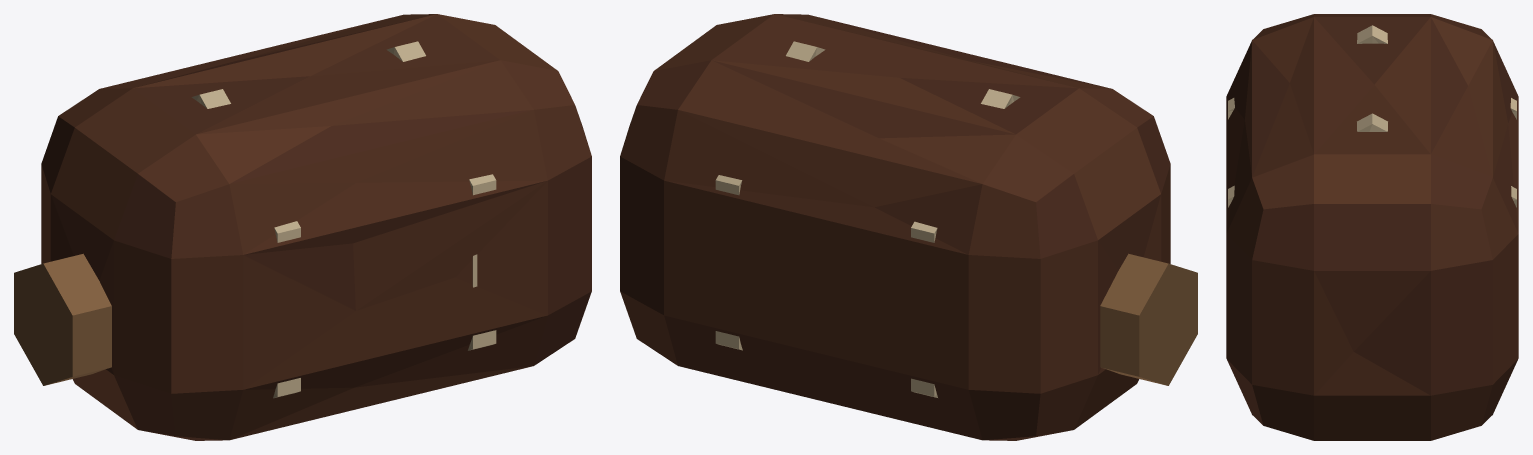
Rendered from meat_cooked_kopchenoe_idle.glb.
The picture shows the model from 3 angles, left to right: view 1: azimuth 30°, elevation 25°; view 2: azimuth 150°, elevation 25°; view 3: azimuth 270°, elevation 25°; orthographic projection. The views are drawn at different scales.
Visible parts, largest first — view 1: meat_cooked_kopchenoe_idle; view 2: meat_cooked_kopchenoe_idle; view 3: meat_cooked_kopchenoe_idle.
Boxes of the visible parts, <box> form: meat_cooked_kopchenoe_idle: <box>14,14,591,440</box>; meat_cooked_kopchenoe_idle: <box>620,14,1197,440</box>; meat_cooked_kopchenoe_idle: <box>1226,14,1518,440</box>.
Bounding box in the file's own units: 0.13 × 0.08 × 0.07.
Materials: 1 (1 with a texture image).
